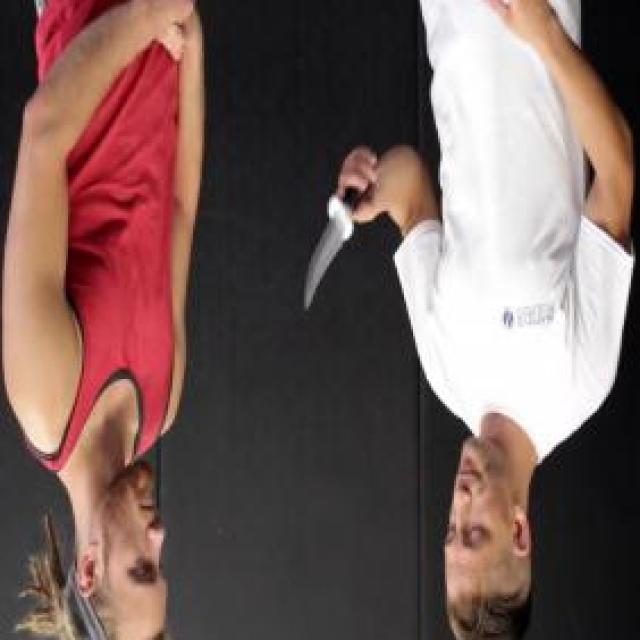knife: (297, 145, 378, 329)
